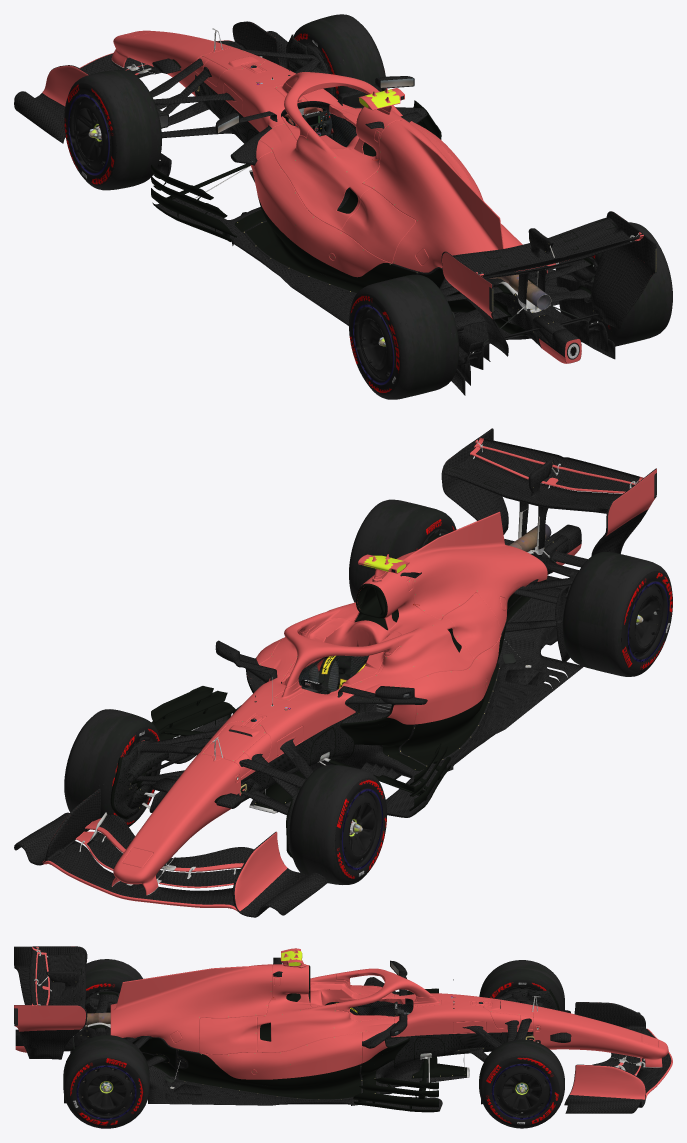
File: f1_toro.glb
3 renders of one model, top to bottom at view 1: azimuth 30°, elevation 25°; view 2: azimuth 150°, elevation 25°; view 3: azimuth 270°, elevation 25°, orthographic. The views are drawn at different scales.
Parts seen in each view (by area): view 1: Body, Wheel_RL, Wheel_FL, Wheel_FR, Wheel_RR; view 2: Body, Wheel_RL, Wheel_FL, Wheel_FR, Wheel_RR; view 3: Body, Wheel_RR, Wheel_FR, Wheel_FL, Wheel_RL.
Boxes of the visible parts, bbox=[...] form: Body: bbox=[14, 21, 656, 395]; Wheel_RL: bbox=[349, 274, 458, 399]; Wheel_FL: bbox=[64, 70, 161, 190]; Wheel_FR: bbox=[293, 14, 385, 106]; Wheel_RR: bbox=[588, 222, 672, 346]; Body: bbox=[14, 428, 656, 917]; Wheel_RL: bbox=[562, 552, 672, 676]; Wheel_FL: bbox=[289, 764, 386, 884]; Wheel_FR: bbox=[64, 709, 161, 826]; Wheel_RR: bbox=[349, 499, 456, 602]; Body: bbox=[14, 946, 672, 1113]; Wheel_RR: bbox=[63, 1035, 149, 1128]; Wheel_FR: bbox=[479, 1039, 564, 1128]; Wheel_FL: bbox=[479, 960, 564, 1010]; Wheel_RL: bbox=[85, 959, 143, 999].
Bounding box in the file's own units: 1.91 × 1.18 × 5.39.
21 materials, 19 textured.
